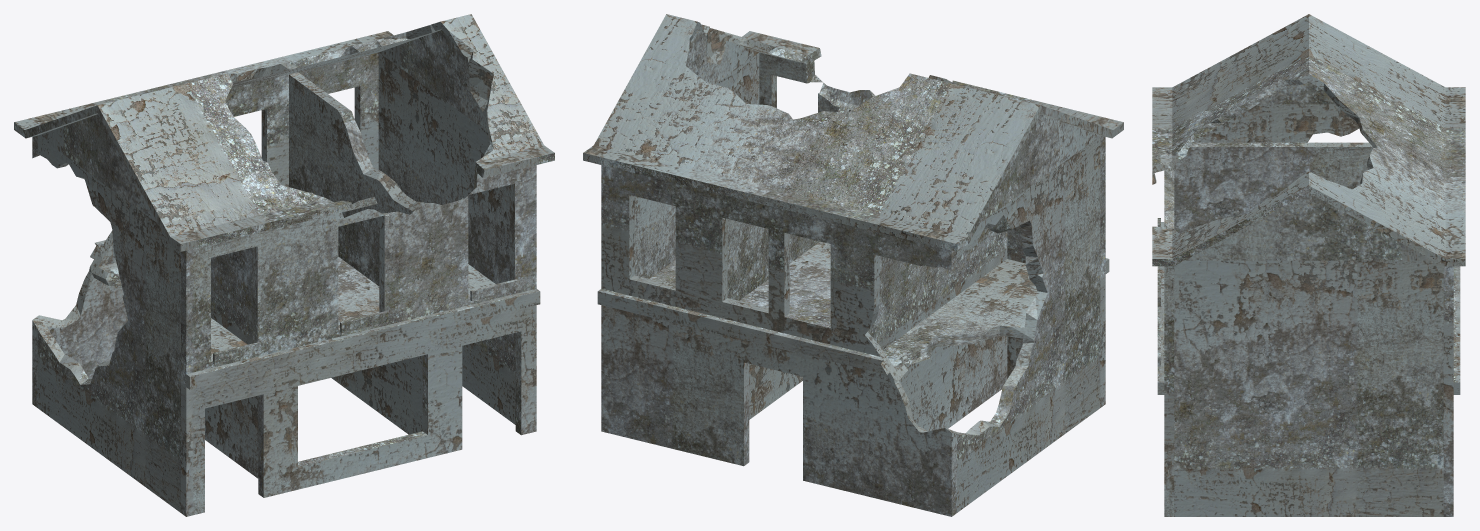
Rendered from nha xa 2_2.fbx.
3 renders of one model, left to right at view 1: azimuth 30°, elevation 25°; view 2: azimuth 150°, elevation 25°; view 3: azimuth 270°, elevation 25°, orthographic. The views are drawn at different scales.
Parts seen in each view (by area): view 1: cube.014, cube.026, cube.015, cube.016, cube.023, cube.017, cube.022, cube.018, cube.025; view 2: cube.017, cube.026, cube.015, cube.022, cube.025, cube.016, cube.014, cube.023, cube.024; view 3: cube.016, cube.026, cube.022, cube.015, cube.014, cube.017, cube.024, cube.018.
Boxes of the visible parts, left/top/right/bottom form: cube.014: left=181, top=165, right=536, bottom=516; cube.026: left=14, top=14, right=554, bottom=251; cube.015: left=37, top=114, right=180, bottom=512; cube.016: left=378, top=30, right=515, bottom=424; cube.023: left=289, top=72, right=424, bottom=434; cube.017: left=32, top=52, right=378, bottom=407; cube.022: left=205, top=248, right=258, bottom=478; cube.018: left=186, top=288, right=540, bottom=389; cube.025: left=94, top=257, right=495, bottom=356; cube.017: left=601, top=165, right=956, bottom=516; cube.026: left=583, top=14, right=1123, bottom=251; cube.015: left=952, top=114, right=1100, bottom=512; cube.022: left=867, top=228, right=1007, bottom=431; cube.025: left=649, top=241, right=1037, bottom=381; cube.016: left=634, top=30, right=759, bottom=278; cube.014: left=759, top=52, right=1105, bottom=407; cube.023: left=727, top=107, right=848, bottom=419; cube.024: left=597, top=288, right=889, bottom=374; cube.016: left=1174, top=193, right=1443, bottom=516; cube.026: left=1152, top=14, right=1465, bottom=266; cube.022: left=1174, top=142, right=1373, bottom=233; cube.015: left=1194, top=81, right=1359, bottom=142; cube.014: left=1164, top=166, right=1174, bottom=516; cube.017: left=1443, top=266, right=1453, bottom=516; cube.024: left=1453, top=266, right=1460, bottom=394; cube.018: left=1157, top=222, right=1164, bottom=394.
Bounding box in the file's own units: 754 × 690 × 581.
Materials: 1 (1 with a texture image).
